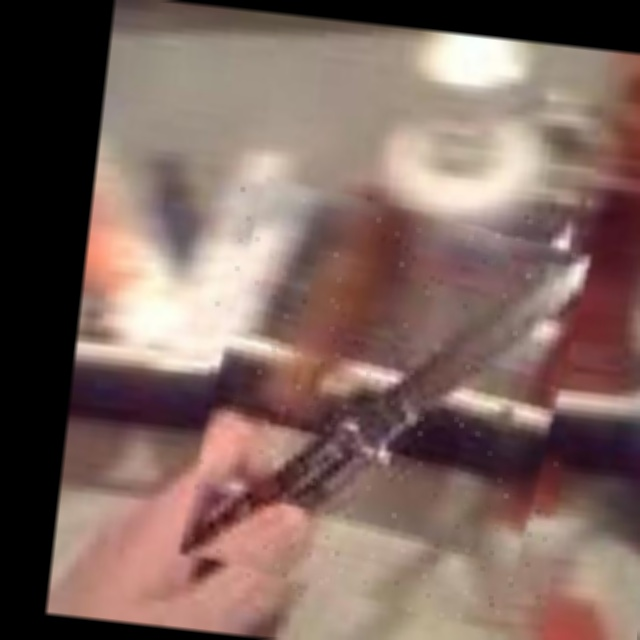Sharp-Object: (185, 181, 584, 628)
